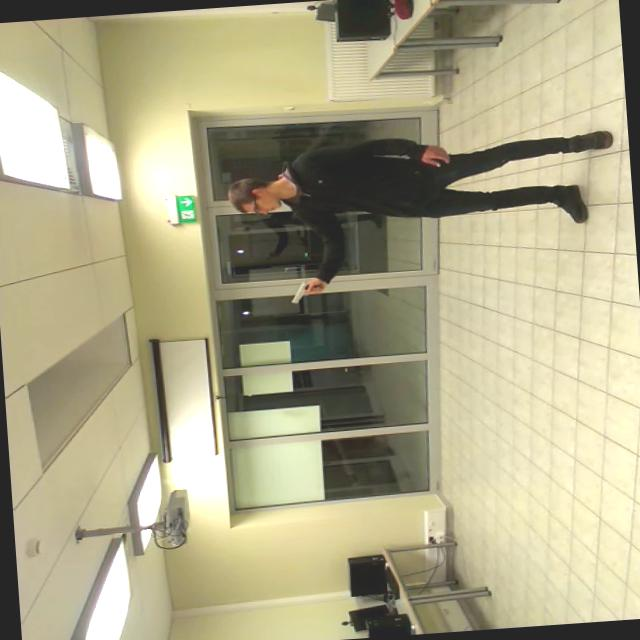handgun: (286, 266, 328, 322)
